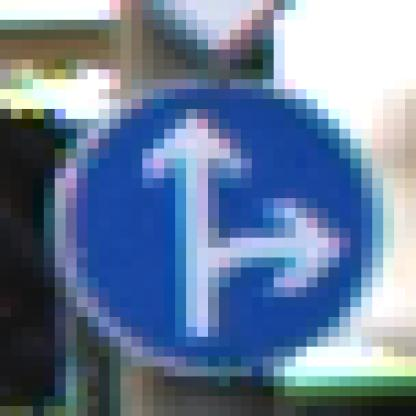Straight or Right: (56, 61, 362, 358)
